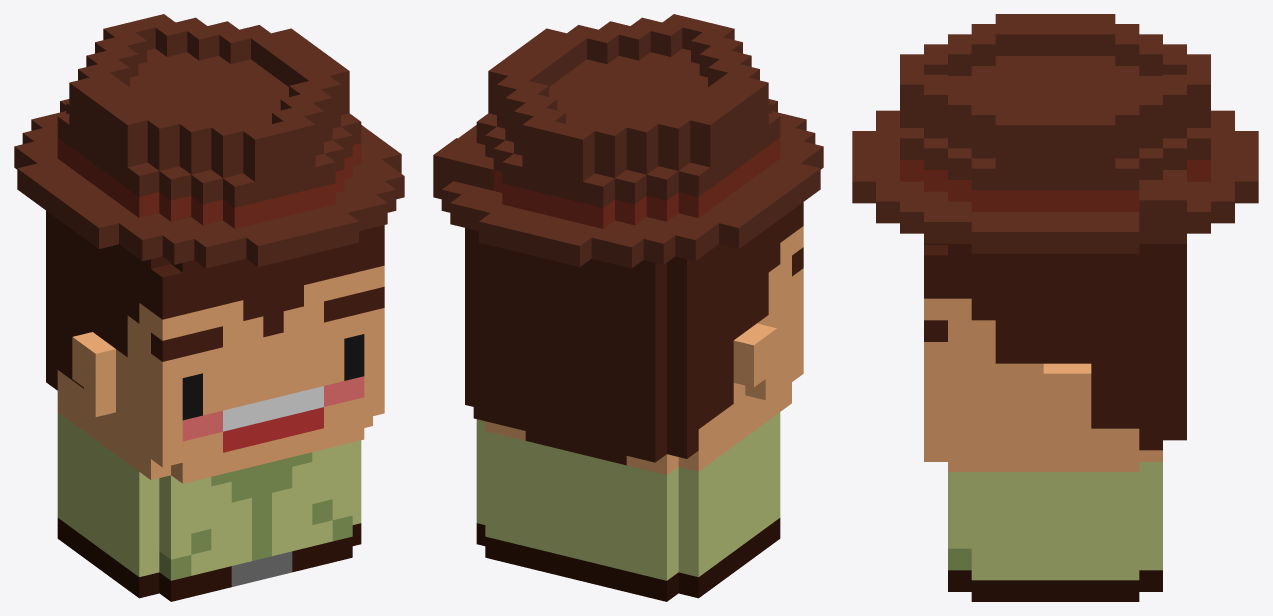
File: body.obj
The picture shows the model from 3 angles, left to right: view 1: azimuth 30°, elevation 25°; view 2: azimuth 150°, elevation 25°; view 3: azimuth 270°, elevation 25°; orthographic projection. The views are drawn at different scales.
Size of the model in its own units: 1.5 by 2.2 by 1.7.
